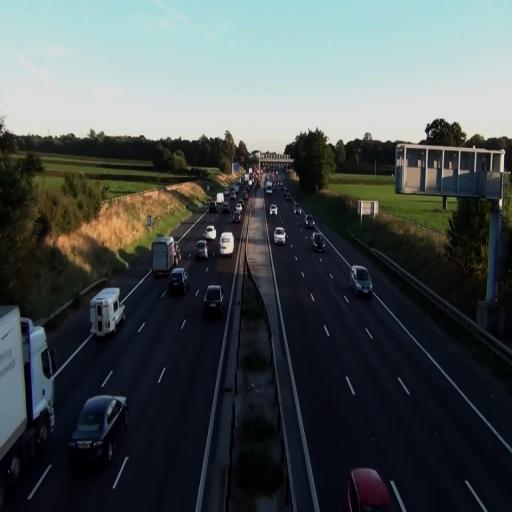vehicle: (0, 305, 56, 494), (68, 393, 128, 472), (344, 468, 408, 512), (90, 286, 126, 340), (151, 236, 177, 279), (202, 285, 224, 319), (350, 264, 373, 296), (168, 267, 188, 296), (204, 224, 218, 257), (220, 231, 234, 256), (311, 231, 325, 253), (273, 226, 287, 246), (230, 202, 242, 225), (196, 241, 208, 260)
